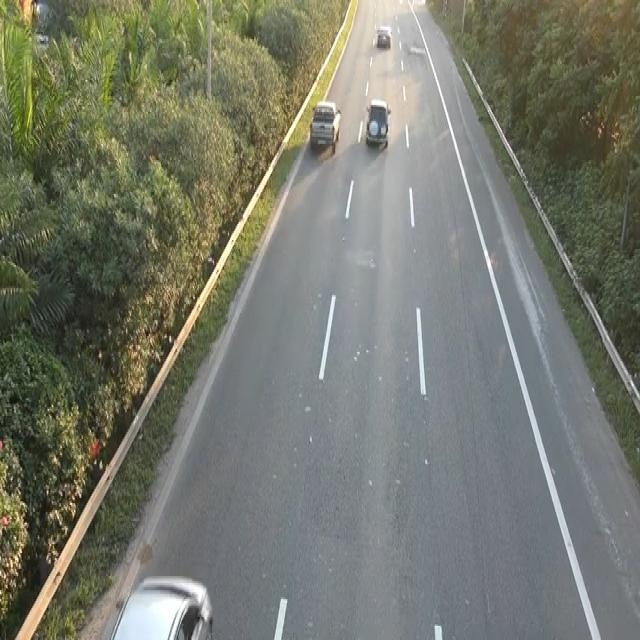bus: (106, 570, 214, 636), (375, 23, 392, 48)
car: (307, 96, 344, 160), (364, 96, 391, 149)
